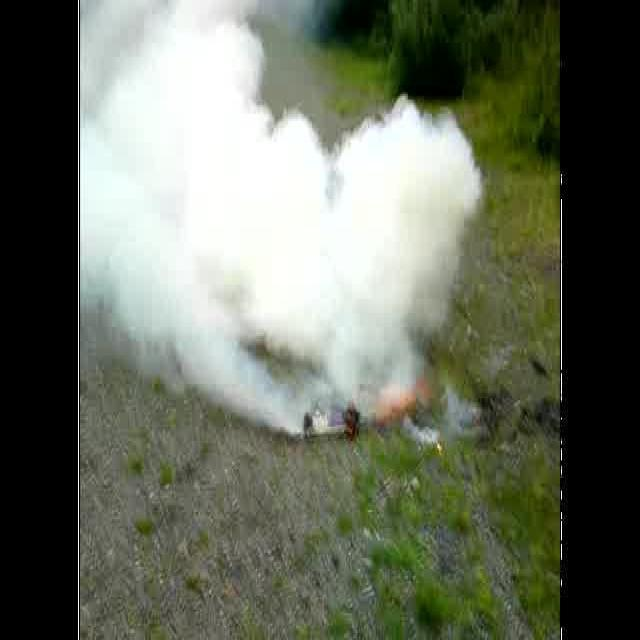Smoke: (81, 0, 480, 435)
